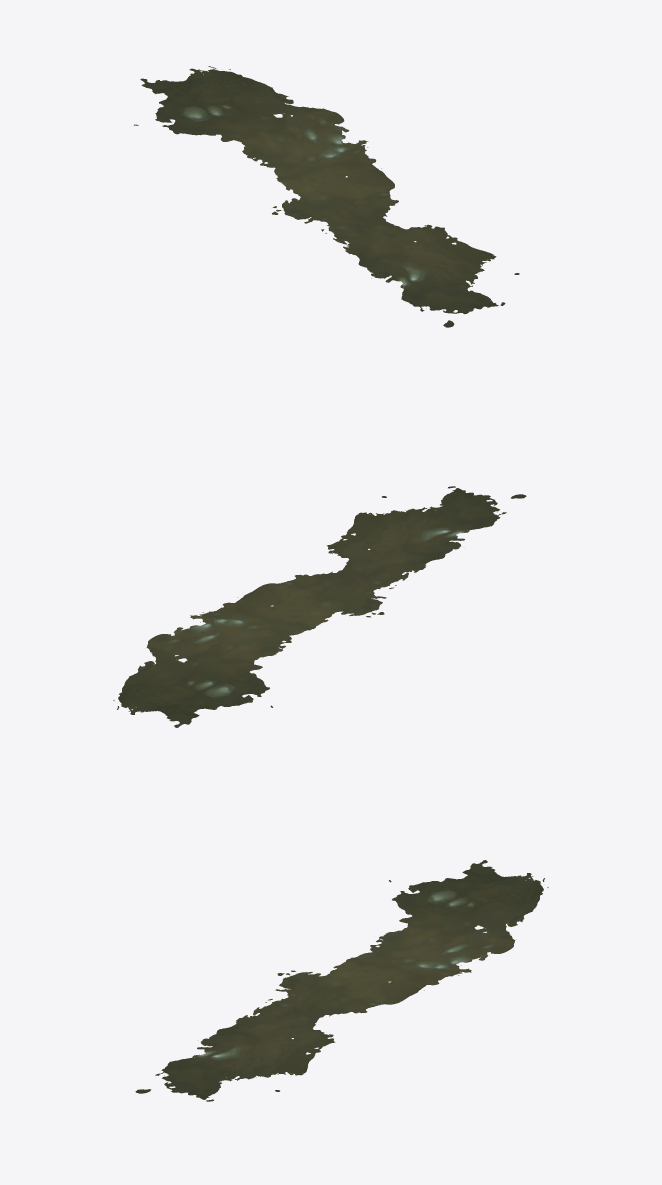
File: road_straight_dirt1a.fbx
3 views of the same model, one above another, from view 1: azimuth 30°, elevation 25°; view 2: azimuth 150°, elevation 25°; view 3: azimuth 330°, elevation 25° (orthographic).
Parts seen in each view (by area): view 1: obj0.056; view 2: obj0.056; view 3: obj0.056.
Part boxes in pixels (x1,y1,x2,y2): obj0.056: [134, 66, 519, 327]; obj0.056: [113, 486, 526, 727]; obj0.056: [135, 860, 548, 1101].
Bounding box in the file's own units: 7.54 × 4.5e-06 × 24.54.
